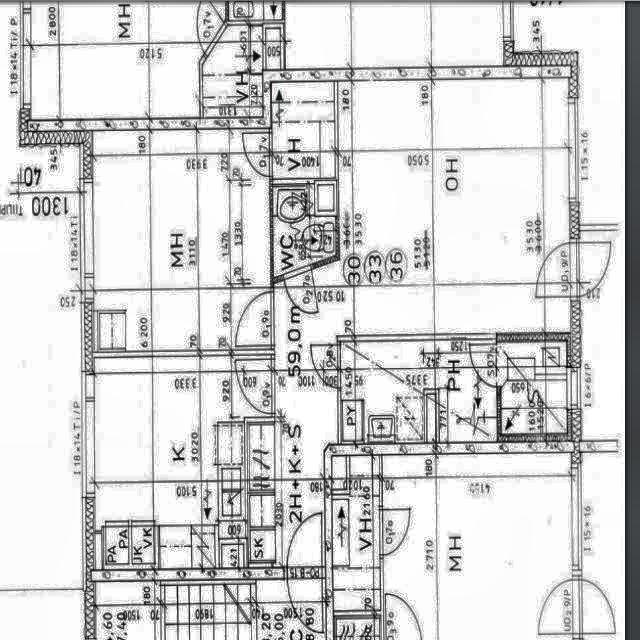room: (93, 129, 271, 351), (94, 355, 272, 571), (341, 340, 498, 443), (332, 456, 380, 611), (273, 180, 338, 275), (501, 342, 566, 434), (203, 25, 263, 117)
